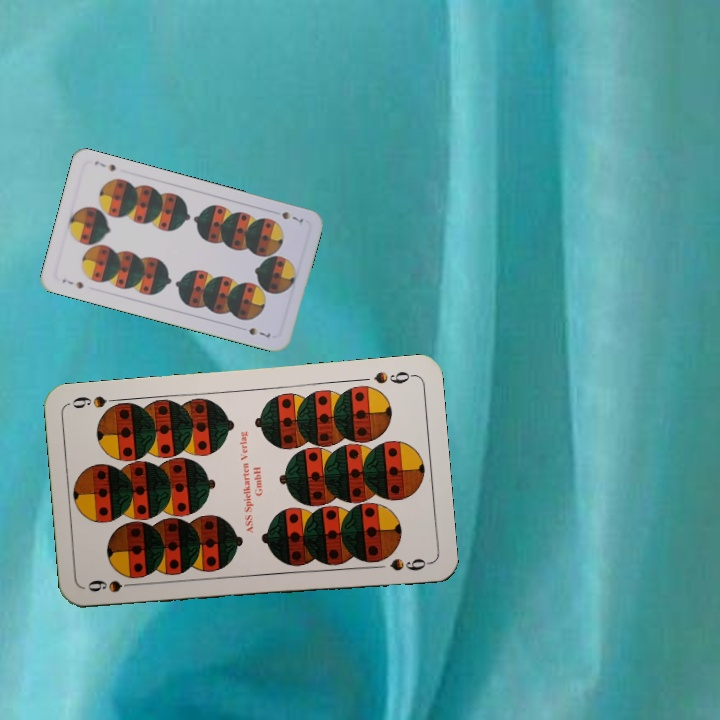S7: (277, 207, 306, 225), (58, 275, 86, 291)
S9: (83, 575, 143, 595), (369, 367, 416, 387)
